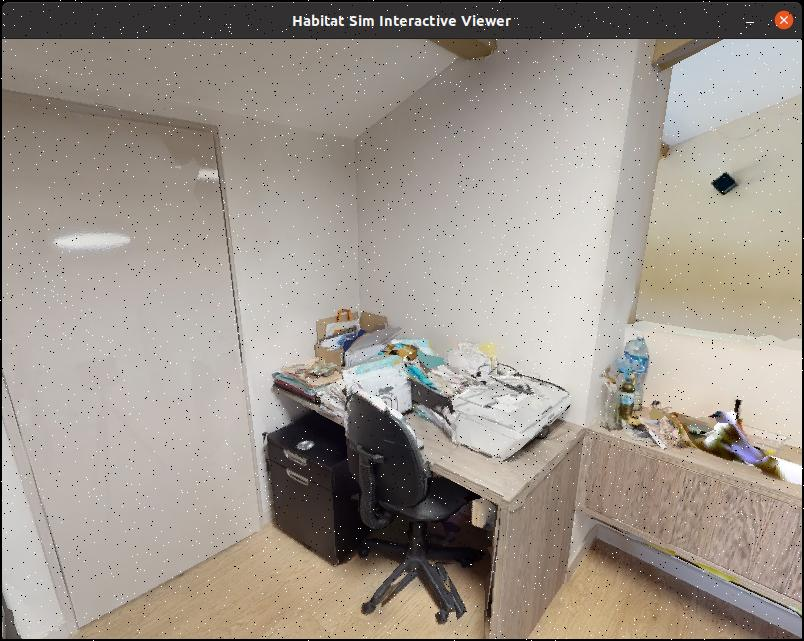chair: (333, 386, 484, 637)
door: (0, 95, 285, 595)
table: (262, 335, 609, 641)
